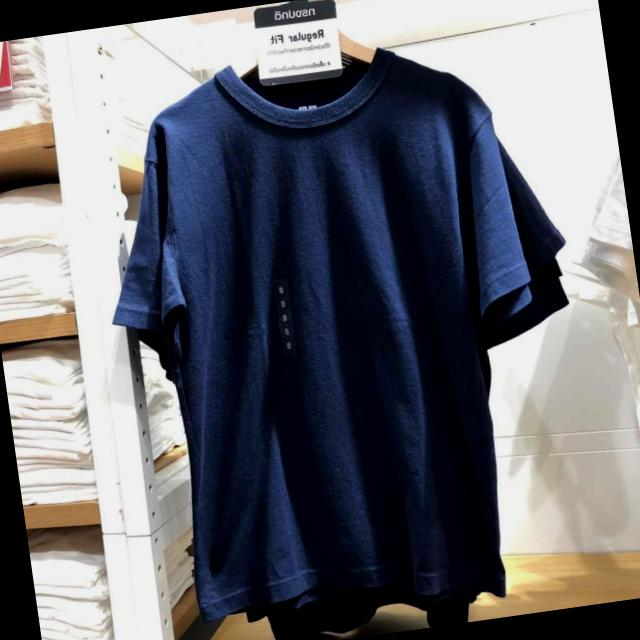Tshirt: (116, 28, 564, 636)
